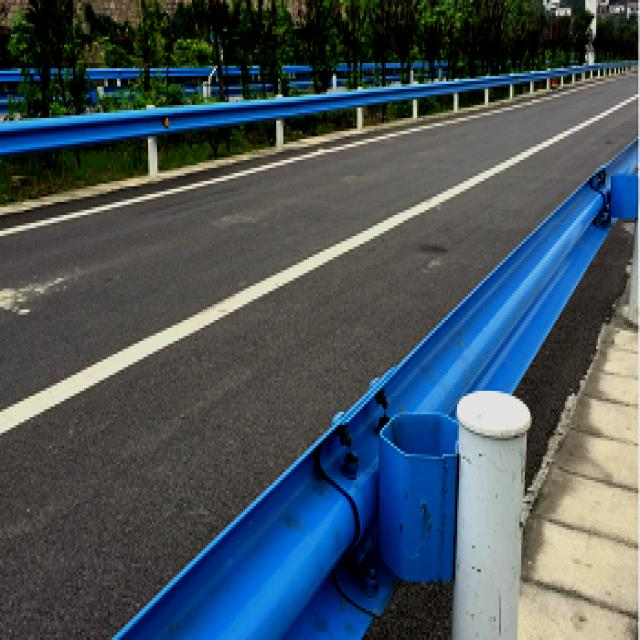Guard rail: (116, 142, 636, 637), (0, 67, 599, 157)
